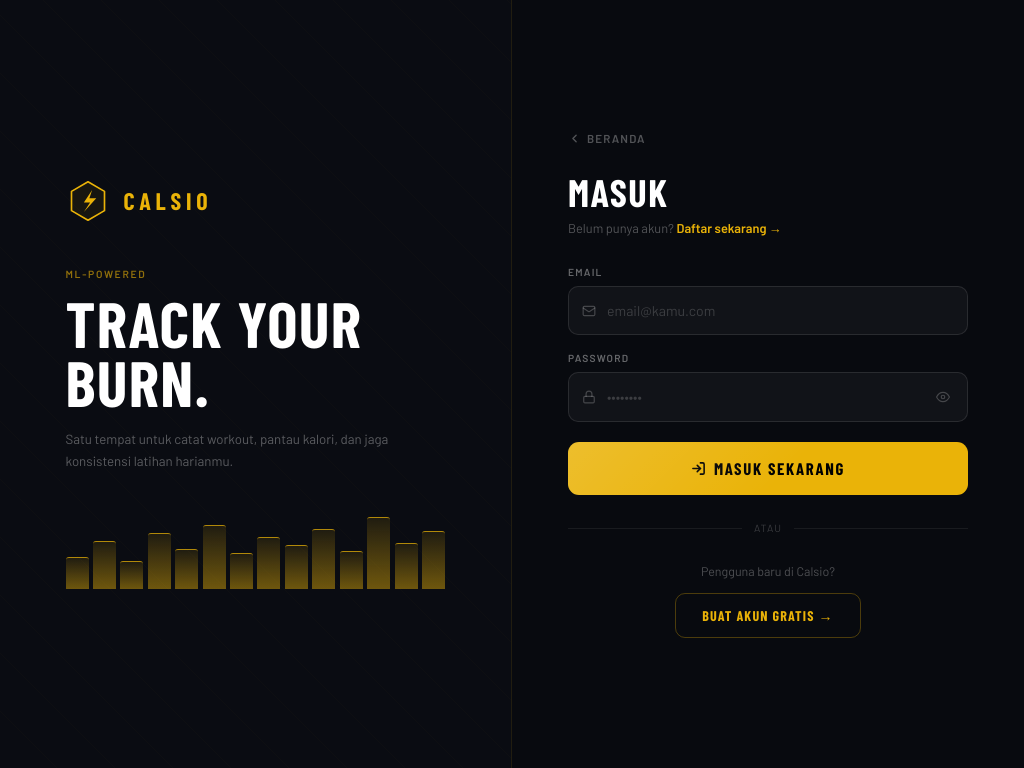
Test case: Auth - Login Flow › validasi password kurang dari 6 karakter
Type "test@gmail.com" into the field with placeholder "email@kamu.com" at [768, 311], box [569,287,967,334]
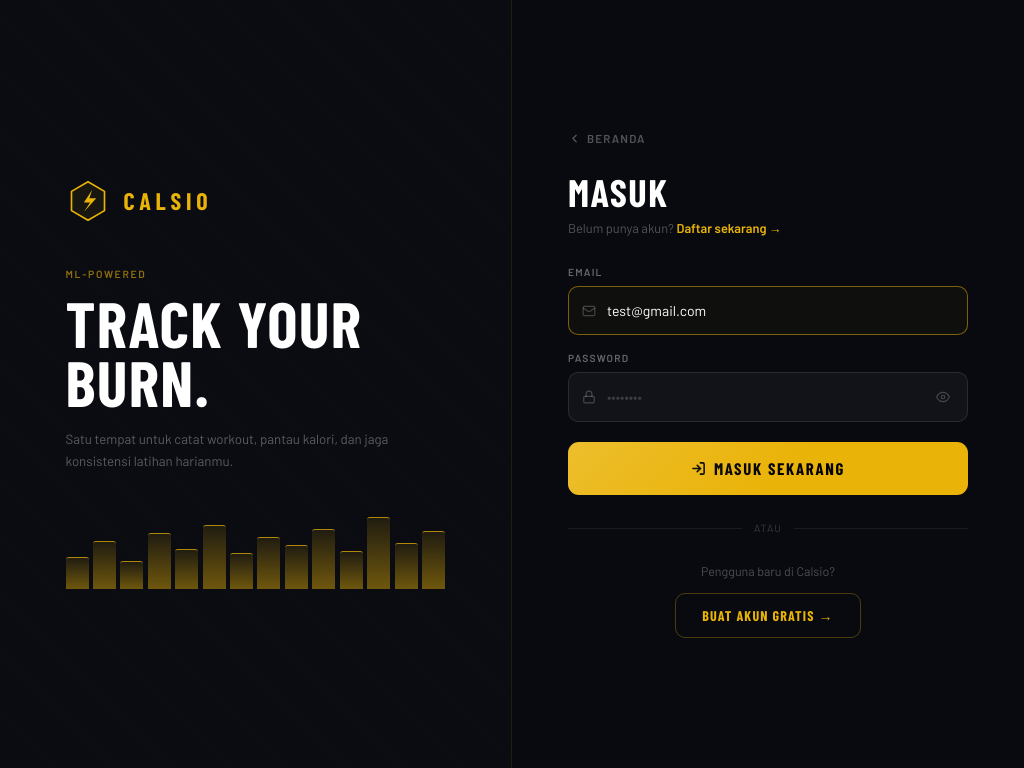
Type "123" into the password field with placeholder "••••••••" at [768, 398], box [569,374,967,421]
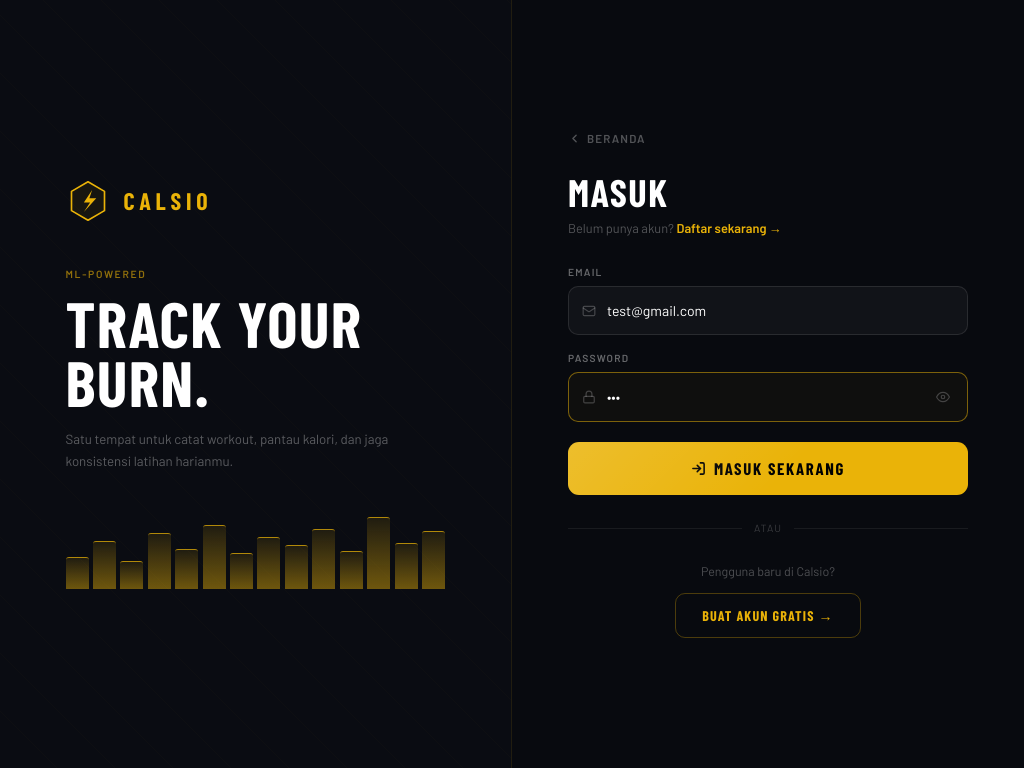
Click the button "Masuk Sekarang" at [768, 469], box [568,442,968,495]
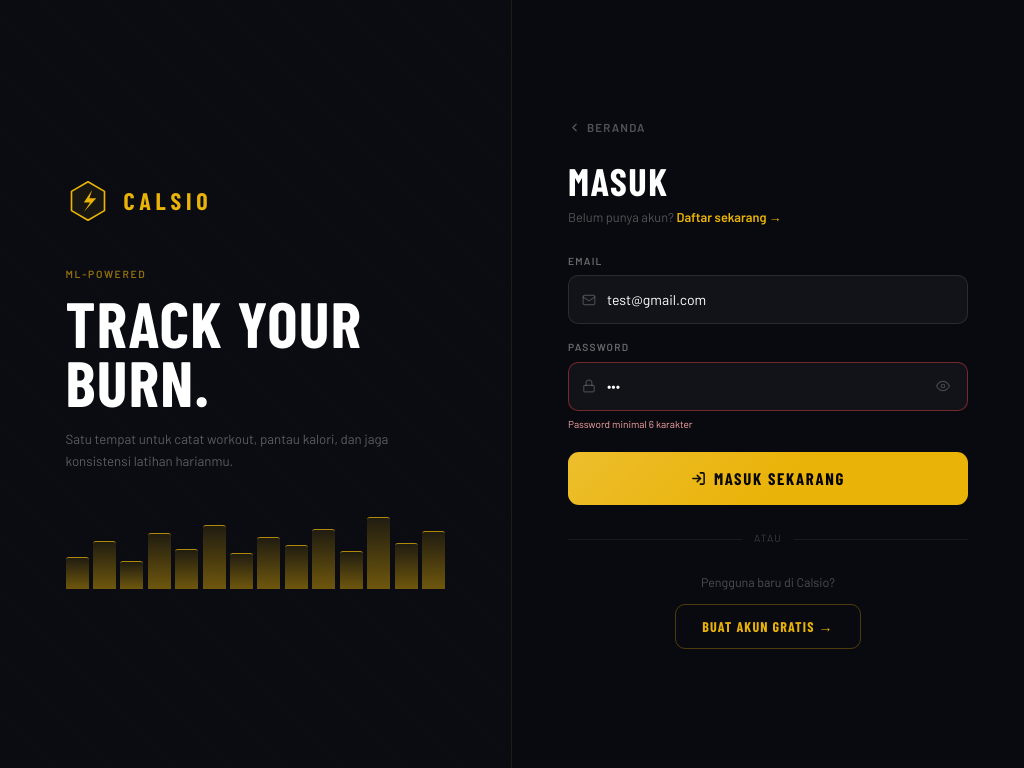
Expected: the text "Password minimal 6 karakter" is shown, [568,418,692,430]
